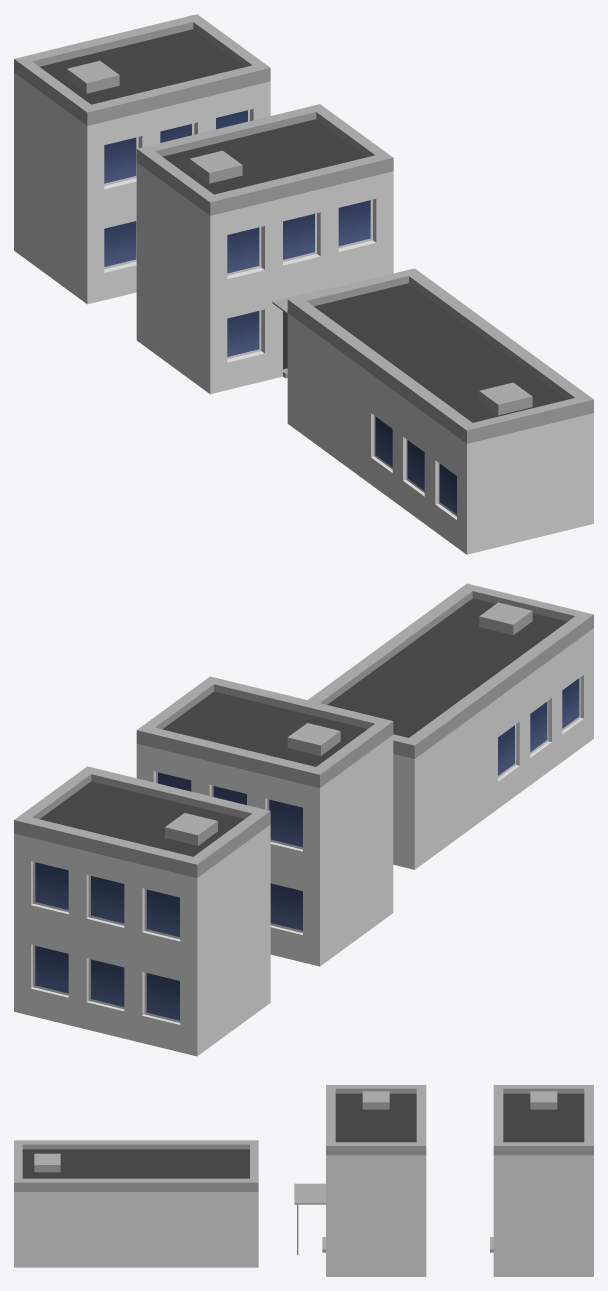
The model's file is asset pack 3.fbx.
3 views of the same model, one above another, from view 1: azimuth 30°, elevation 25°; view 2: azimuth 150°, elevation 25°; view 3: azimuth 270°, elevation 25° (orthographic). The views are drawn at different scales.
Visible parts, largest first — view 1: nemocnice.002, nemocnice.001, nemocnice.003; view 2: nemocnice.003, nemocnice.002, nemocnice.001; view 3: nemocnice.002, nemocnice.001, nemocnice.003.
Boxes of the visible parts, box(x1,y1,x2,y2) form: nemocnice.002: box(287, 268, 593, 554); nemocnice.001: box(136, 104, 393, 394); nemocnice.003: box(14, 14, 270, 304); nemocnice.003: box(14, 766, 270, 1056); nemocnice.002: box(307, 583, 593, 869); nemocnice.001: box(136, 676, 393, 966); nemocnice.002: box(14, 1140, 258, 1267); nemocnice.001: box(294, 1085, 426, 1276); nemocnice.003: box(490, 1085, 593, 1276).
Size of the model in its own units: 862 by 877 by 3459.
3 materials, 3 textured.
